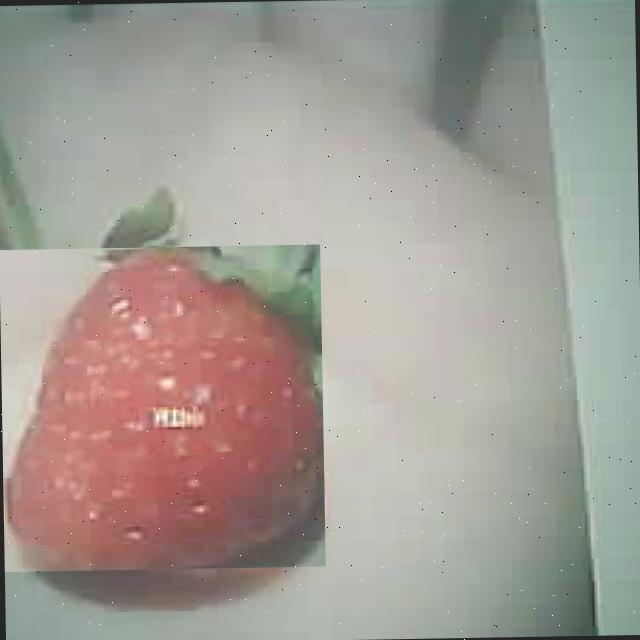ripe: (0, 244, 325, 572)
